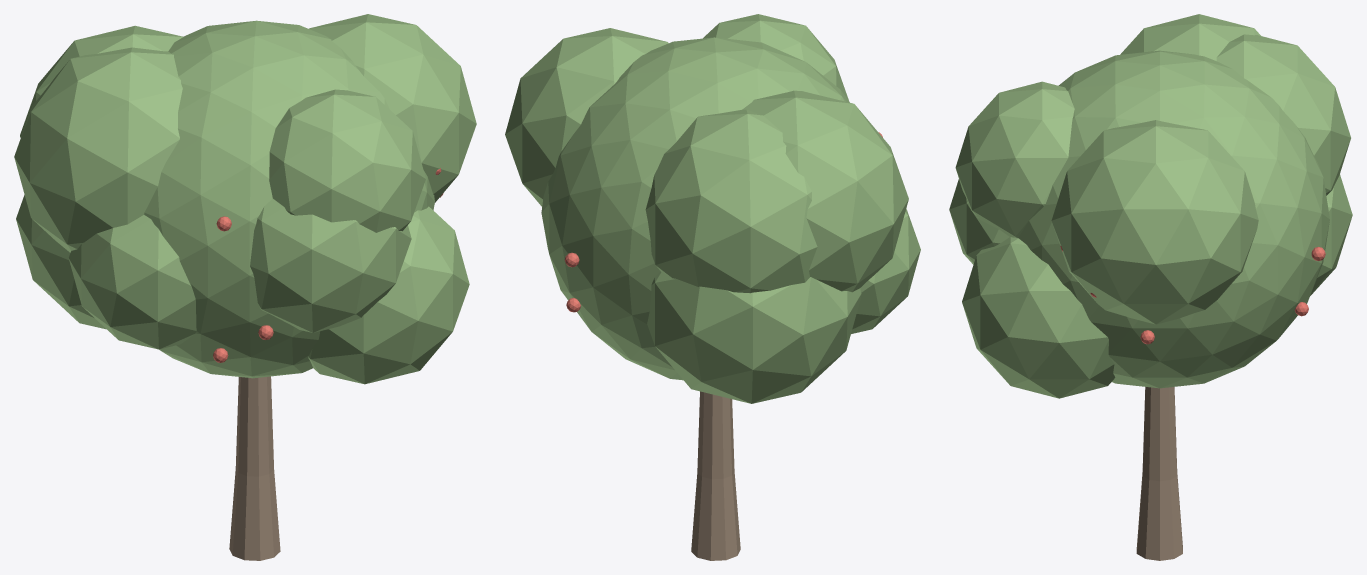
The model's file is tree_f.glb.
The picture shows the model from 3 angles, left to right: view 1: azimuth 30°, elevation 25°; view 2: azimuth 150°, elevation 25°; view 3: azimuth 270°, elevation 25°; orthographic projection. The views are drawn at different scales.
Visible parts, largest first — view 1: tree_f_leaf, tree_f_bark, tree_f_tomato; view 2: tree_f_leaf, tree_f_bark; view 3: tree_f_leaf, tree_f_bark, tree_f_tomato.
Part boxes in pixels (left/top/right/bottom): tree_f_leaf: left=14, top=14, right=476, bottom=384; tree_f_bark: left=229, top=376, right=280, bottom=560; tree_f_tomato: left=213, top=168, right=443, bottom=362; tree_f_leaf: left=505, top=14, right=920, bottom=403; tree_f_bark: left=691, top=391, right=740, bottom=560; tree_f_leaf: left=949, top=14, right=1352, bottom=398; tree_f_bark: left=1136, top=387, right=1182, bottom=560; tree_f_tomato: left=1060, top=245, right=1325, bottom=344.
Bounding box in the file's own units: 3.67 × 4.41 × 3.32.
